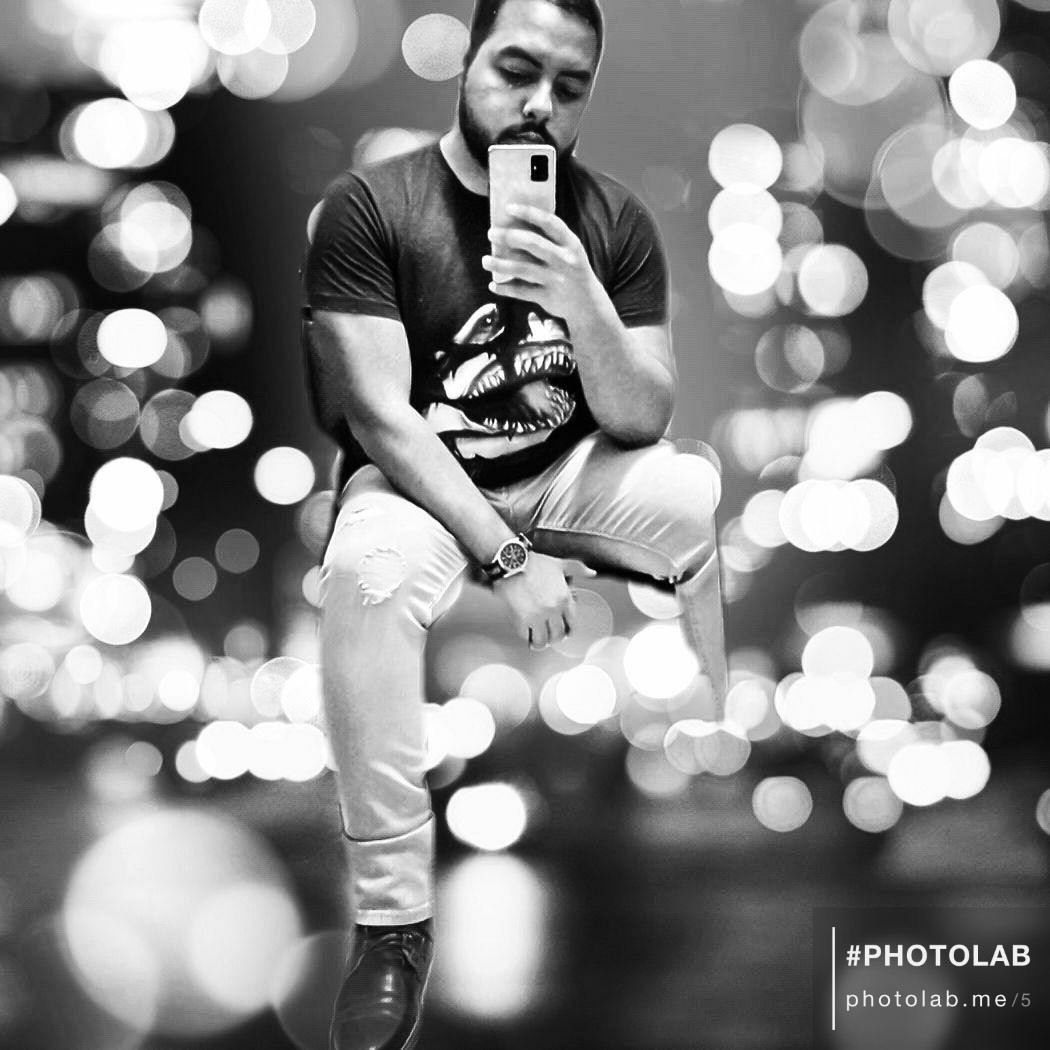Yoshi: (282, 6, 741, 913)
